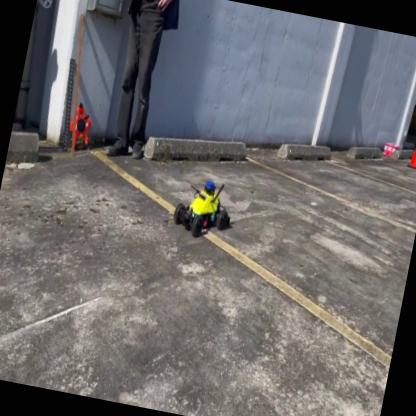cone: (406, 118, 415, 173)
mushr_car: (170, 168, 238, 247)
